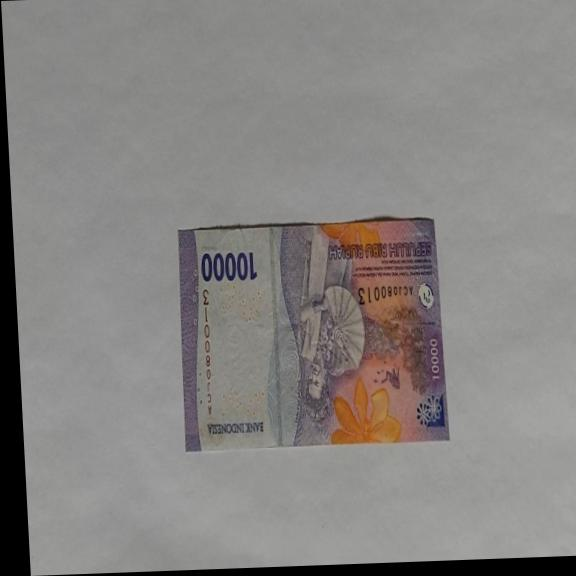Kertas: (173, 215, 449, 454), (199, 249, 258, 285)
